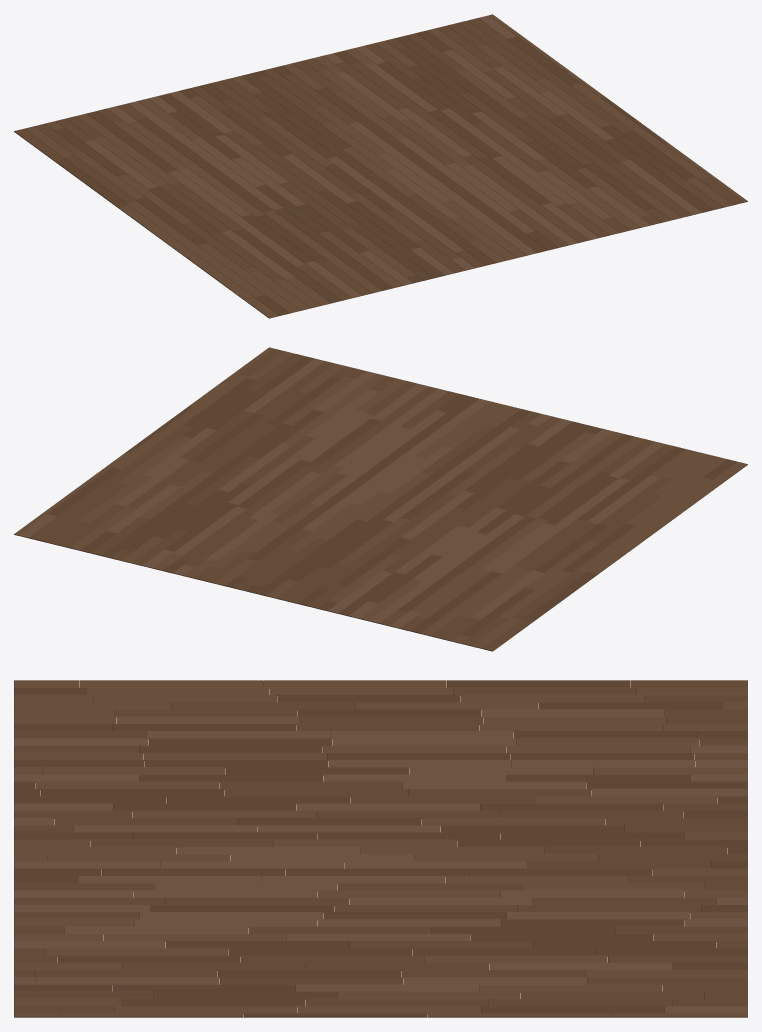
File: floor_night.glb
The picture shows the model from 3 angles, top to bottom: view 1: azimuth 30°, elevation 25°; view 2: azimuth 150°, elevation 25°; view 3: azimuth 270°, elevation 25°; orthographic projection. The views are drawn at different scales.
Visible parts, largest first — view 1: floor_night_oak_4, floor_night_oak_2, floor_night_oak_1, floor_night_oak_3; view 2: floor_night_oak_4, floor_night_oak_2, floor_night_oak_1, floor_night_oak_3; view 3: floor_night_oak_4, floor_night_oak_2, floor_night_oak_1, floor_night_oak_3.
Boxes of the visible parts, bbox=[...] form: floor_night_oak_4: bbox=[54, 30, 712, 315]; floor_night_oak_2: bbox=[14, 18, 743, 300]; floor_night_oak_1: bbox=[24, 14, 747, 318]; floor_night_oak_3: bbox=[84, 15, 702, 298]; floor_night_oak_4: bbox=[48, 356, 737, 636]; floor_night_oak_2: bbox=[29, 348, 675, 651]; floor_night_oak_1: bbox=[14, 347, 747, 648]; floor_night_oak_3: bbox=[18, 358, 664, 628]; floor_night_oak_4: bbox=[14, 680, 747, 1017]; floor_night_oak_2: bbox=[14, 680, 747, 1013]; floor_night_oak_1: bbox=[14, 680, 747, 1017]; floor_night_oak_3: bbox=[14, 709, 747, 1013].
Size of the model in its own units: 6.5 by 0.01 by 6.
